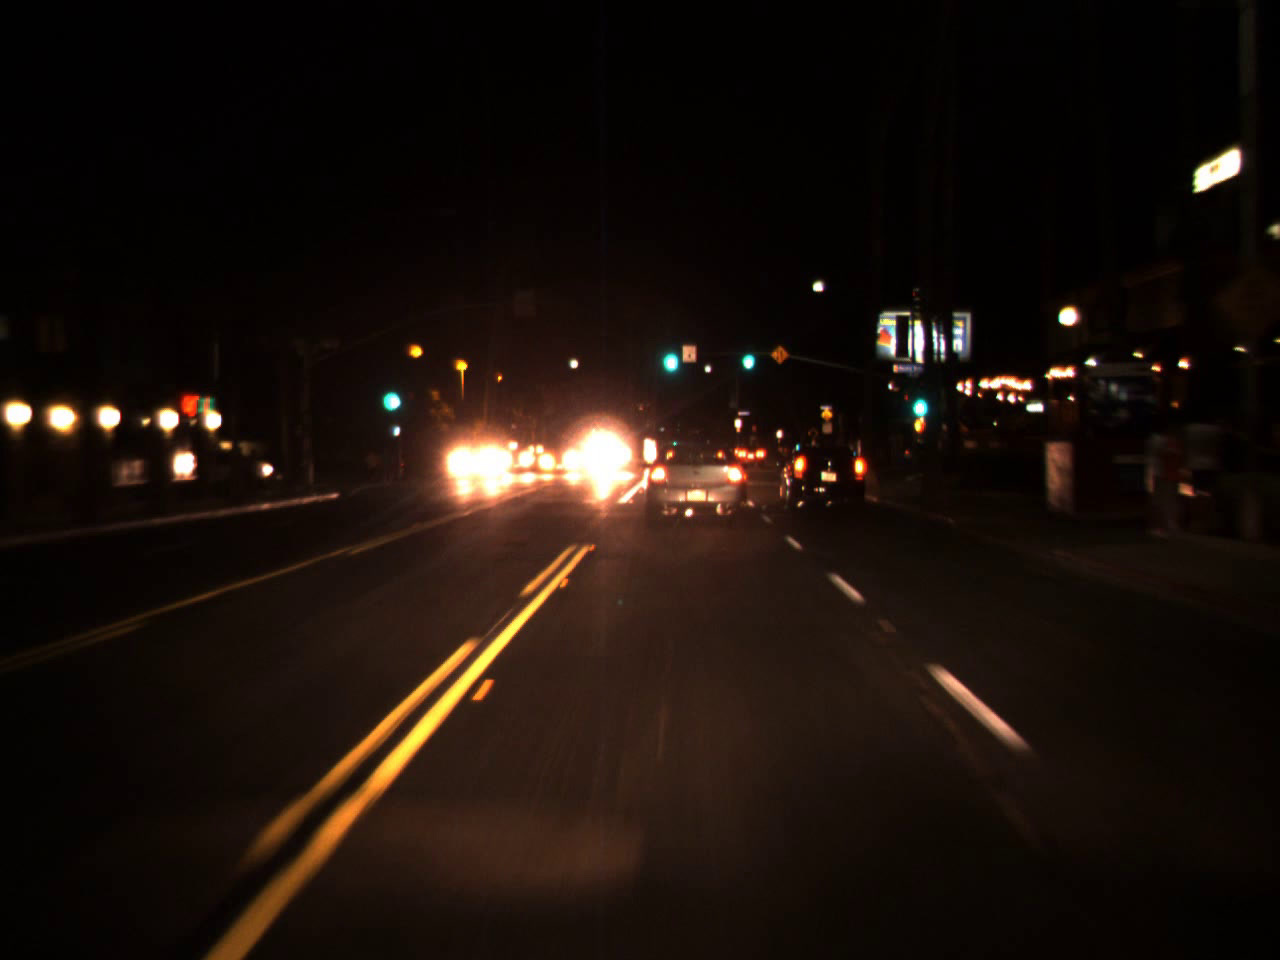go: (377, 367, 402, 418), (657, 328, 682, 379), (907, 376, 930, 424), (739, 339, 757, 372)
